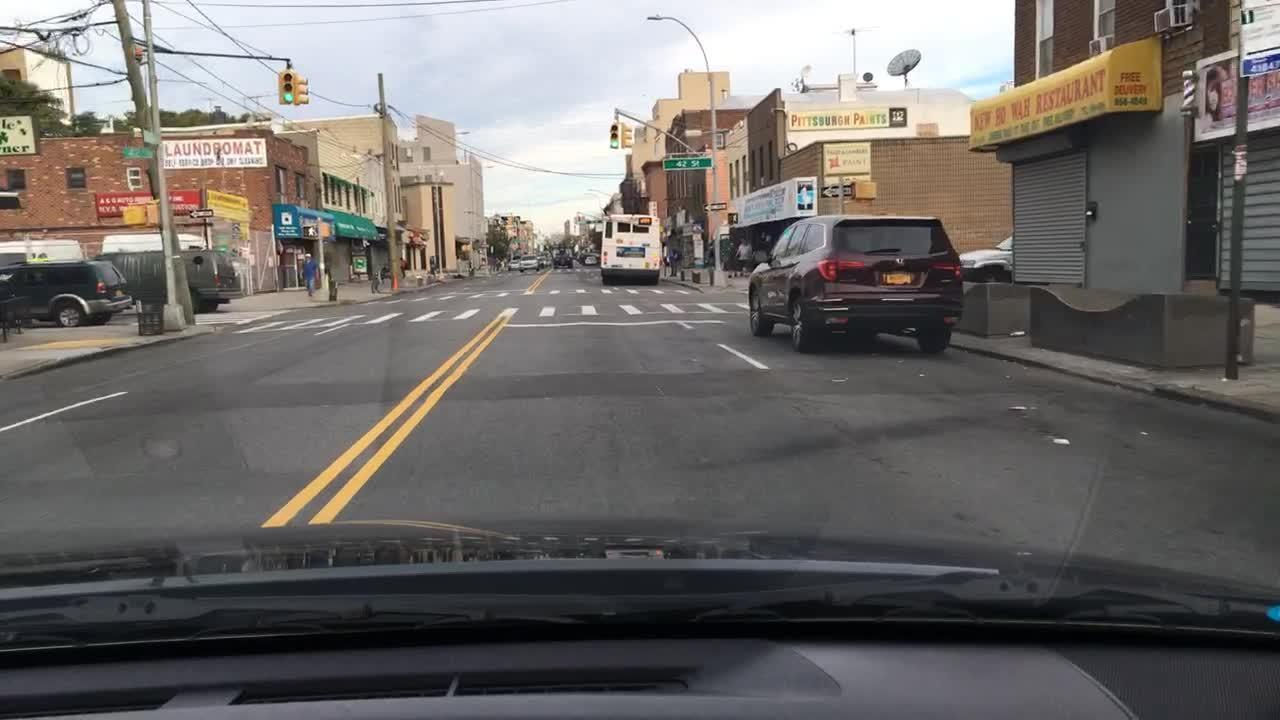Honda: (888, 249, 910, 268)
